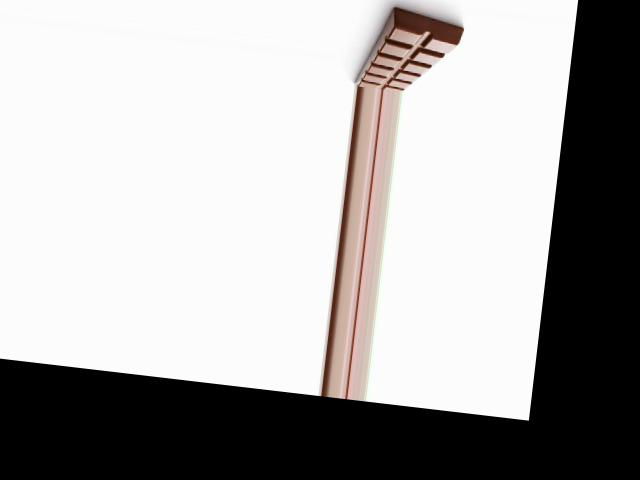chocolate: (348, 0, 466, 97)
